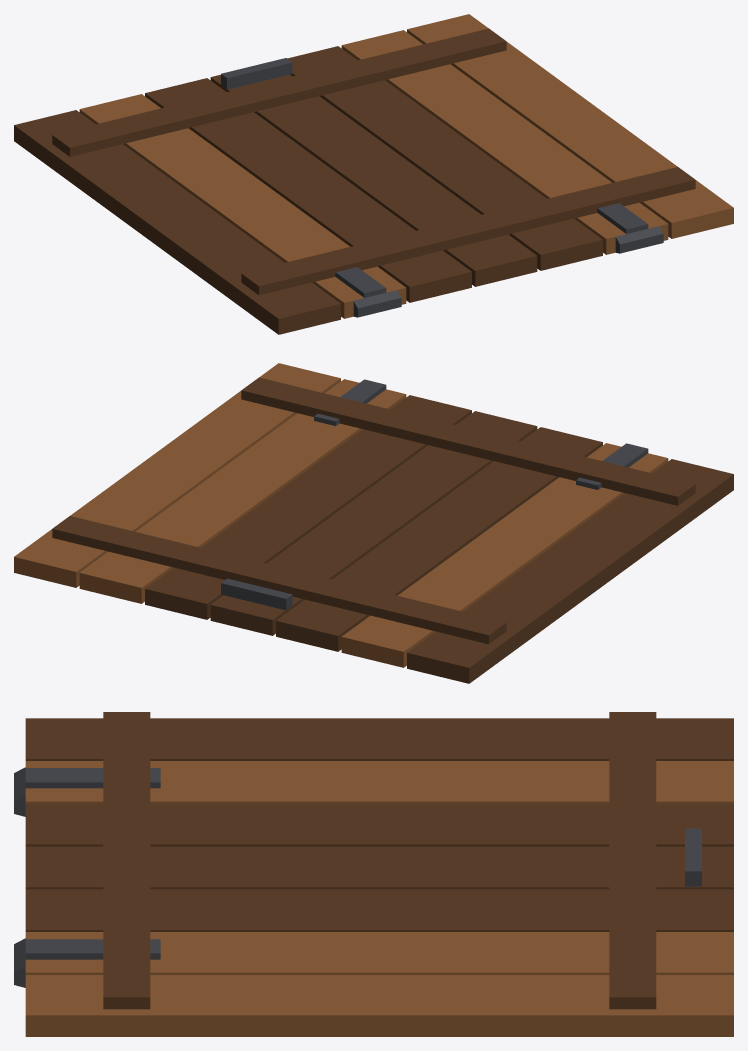
Rendered from mine_hatch.glb.
3 views of the same model, one above another, from view 1: azimuth 30°, elevation 25°; view 2: azimuth 150°, elevation 25°; view 3: azimuth 270°, elevation 25° (orthographic). The views are drawn at different scales.
Parts seen in each view (by area): view 1: mine_hatch; view 2: mine_hatch; view 3: mine_hatch.
Part boxes in pixels (bbox=[...]): mine_hatch: bbox=[14, 14, 733, 334]; mine_hatch: bbox=[14, 363, 733, 683]; mine_hatch: bbox=[14, 712, 733, 1036].
Size of what is drawn, in the model's own units: 2.09 by 0.125 by 2.13.
